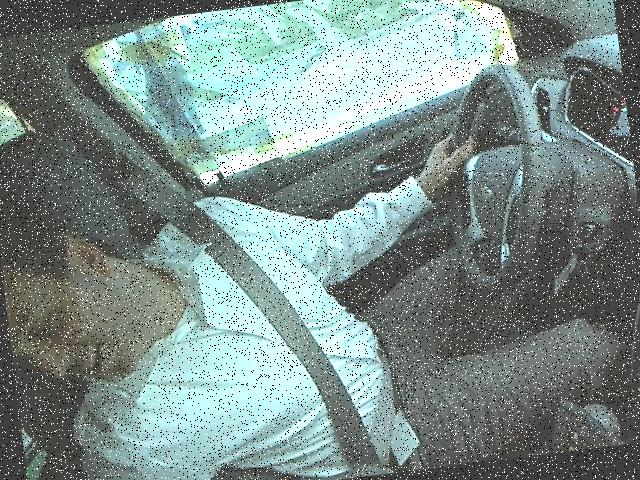c5 - Reaching Behind: (0, 39, 596, 475)
